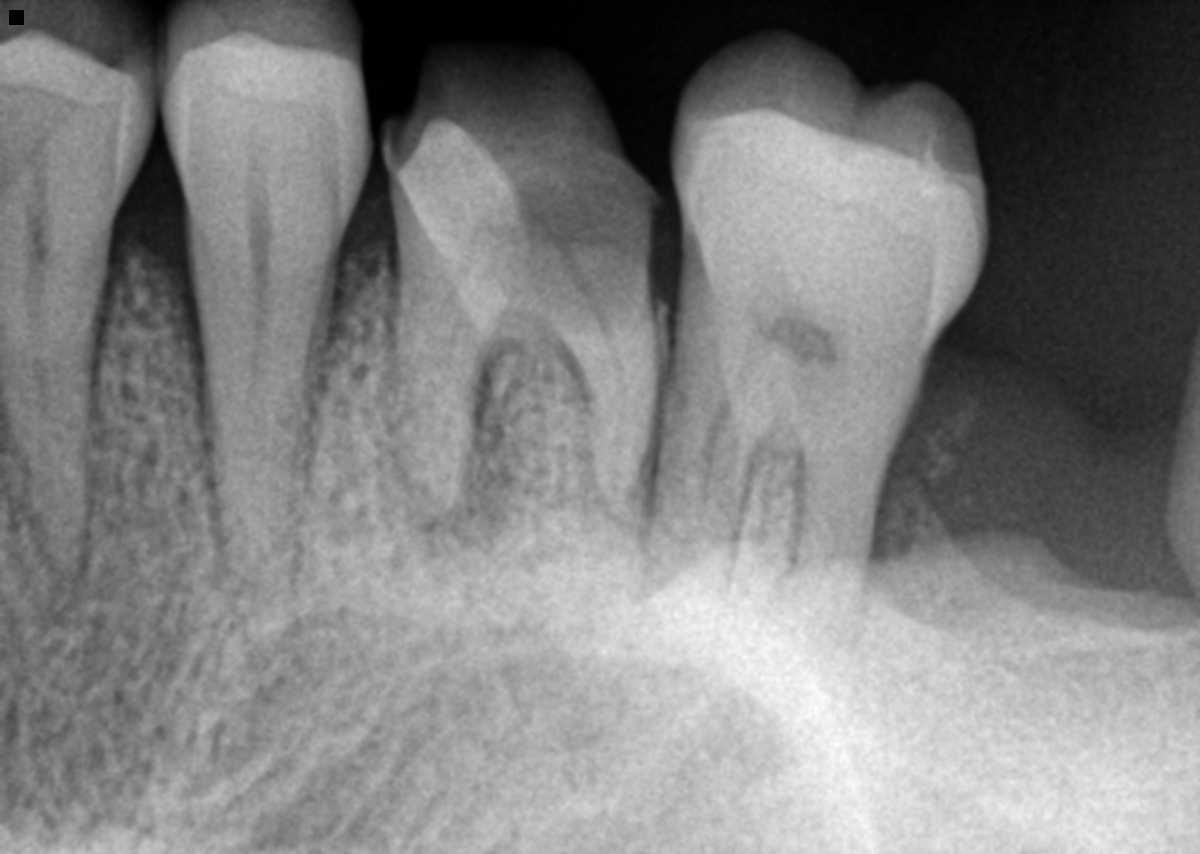Apical Lesion: (421, 388, 525, 576)
Distal Canal: (542, 236, 627, 501)
Distal Root: (744, 348, 936, 683), (536, 228, 658, 532)
Main Canal: (700, 343, 767, 514), (18, 193, 58, 468), (245, 225, 273, 442)
Main Root: (0, 176, 137, 600), (192, 222, 342, 607)
Mesial Root: (646, 327, 773, 687), (393, 228, 532, 539)
decay: (474, 148, 658, 329)
